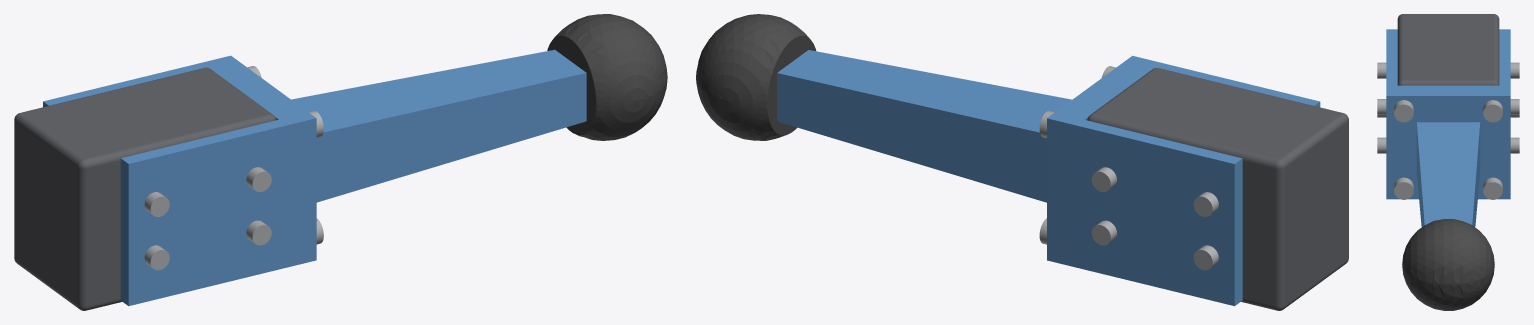
File: tibia.glb
3 views of the same model, side by side, from view 1: azimuth 30°, elevation 25°; view 2: azimuth 150°, elevation 25°; view 3: azimuth 270°, elevation 25° (orthographic). The views are drawn at different scales.
Parts seen in each view (by area): view 1: geometry_0, geometry_14, geometry_15, geometry_13, geometry_4, geometry_1, geometry_3, geometry_2; view 2: geometry_0, geometry_14, geometry_15, geometry_13, geometry_6, geometry_8, geometry_5, geometry_7; view 3: geometry_15, geometry_0, geometry_13, geometry_14, geometry_9, geometry_10, geometry_11, geometry_12, geometry_1, geometry_4, geometry_5, geometry_8 (+2 smaller).
Part boxes in pixels (bbox=[...]): geometry_0: bbox=[14, 67, 275, 310]; geometry_14: bbox=[43, 59, 303, 306]; geometry_15: bbox=[218, 49, 586, 263]; geometry_13: bbox=[547, 14, 667, 140]; geometry_4: bbox=[246, 220, 271, 245]; geometry_1: bbox=[144, 192, 169, 216]; geometry_3: bbox=[246, 167, 271, 191]; geometry_2: bbox=[144, 245, 169, 270]; geometry_0: bbox=[1087, 68, 1348, 310]; geometry_14: bbox=[1059, 59, 1320, 306]; geometry_15: bbox=[777, 50, 1144, 263]; geometry_13: bbox=[696, 14, 816, 140]; geometry_6: bbox=[1193, 245, 1218, 270]; geometry_8: bbox=[1091, 220, 1116, 245]; geometry_5: bbox=[1193, 192, 1218, 216]; geometry_7: bbox=[1091, 167, 1116, 192]; geometry_15: bbox=[1386, 91, 1510, 226]; geometry_0: bbox=[1397, 14, 1499, 85]; geometry_13: bbox=[1402, 219, 1494, 310]; geometry_14: bbox=[1386, 29, 1510, 91]; geometry_9: bbox=[1394, 100, 1413, 122]; geometry_10: bbox=[1483, 100, 1502, 122]; geometry_11: bbox=[1394, 177, 1413, 199]; geometry_12: bbox=[1483, 177, 1502, 199]; geometry_1: bbox=[1377, 62, 1386, 78]; geometry_4: bbox=[1377, 137, 1386, 153]; geometry_5: bbox=[1510, 62, 1519, 78]; geometry_8: bbox=[1510, 137, 1519, 153].
Bounding box in the file's own units: 0.1442 × 0.034 × 0.0399.
